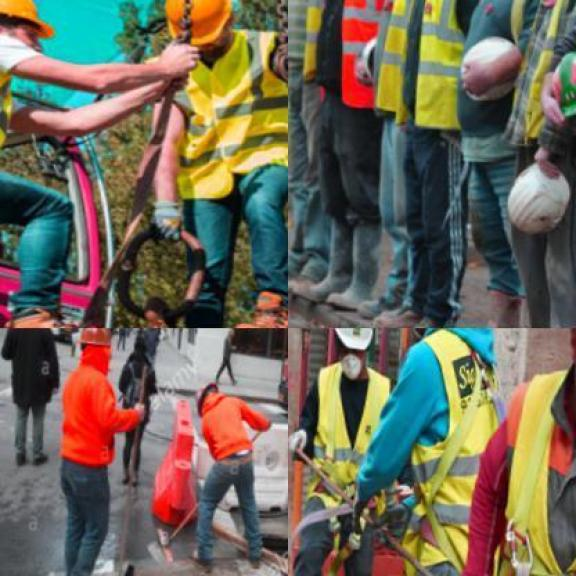safety_vest: (371, 328, 523, 575), (440, 357, 575, 575), (148, 28, 287, 223), (288, 356, 402, 527), (377, 0, 497, 144), (496, 0, 574, 166), (300, 0, 408, 116), (357, 0, 416, 116), (288, 0, 354, 87)
